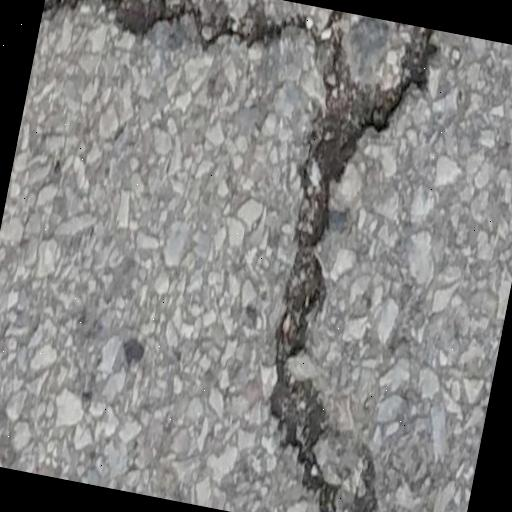spalling: (42, 0, 445, 512)
